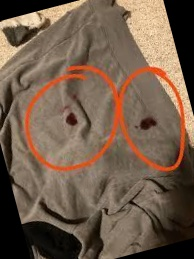ink: (137, 115, 157, 132), (63, 111, 77, 128)
